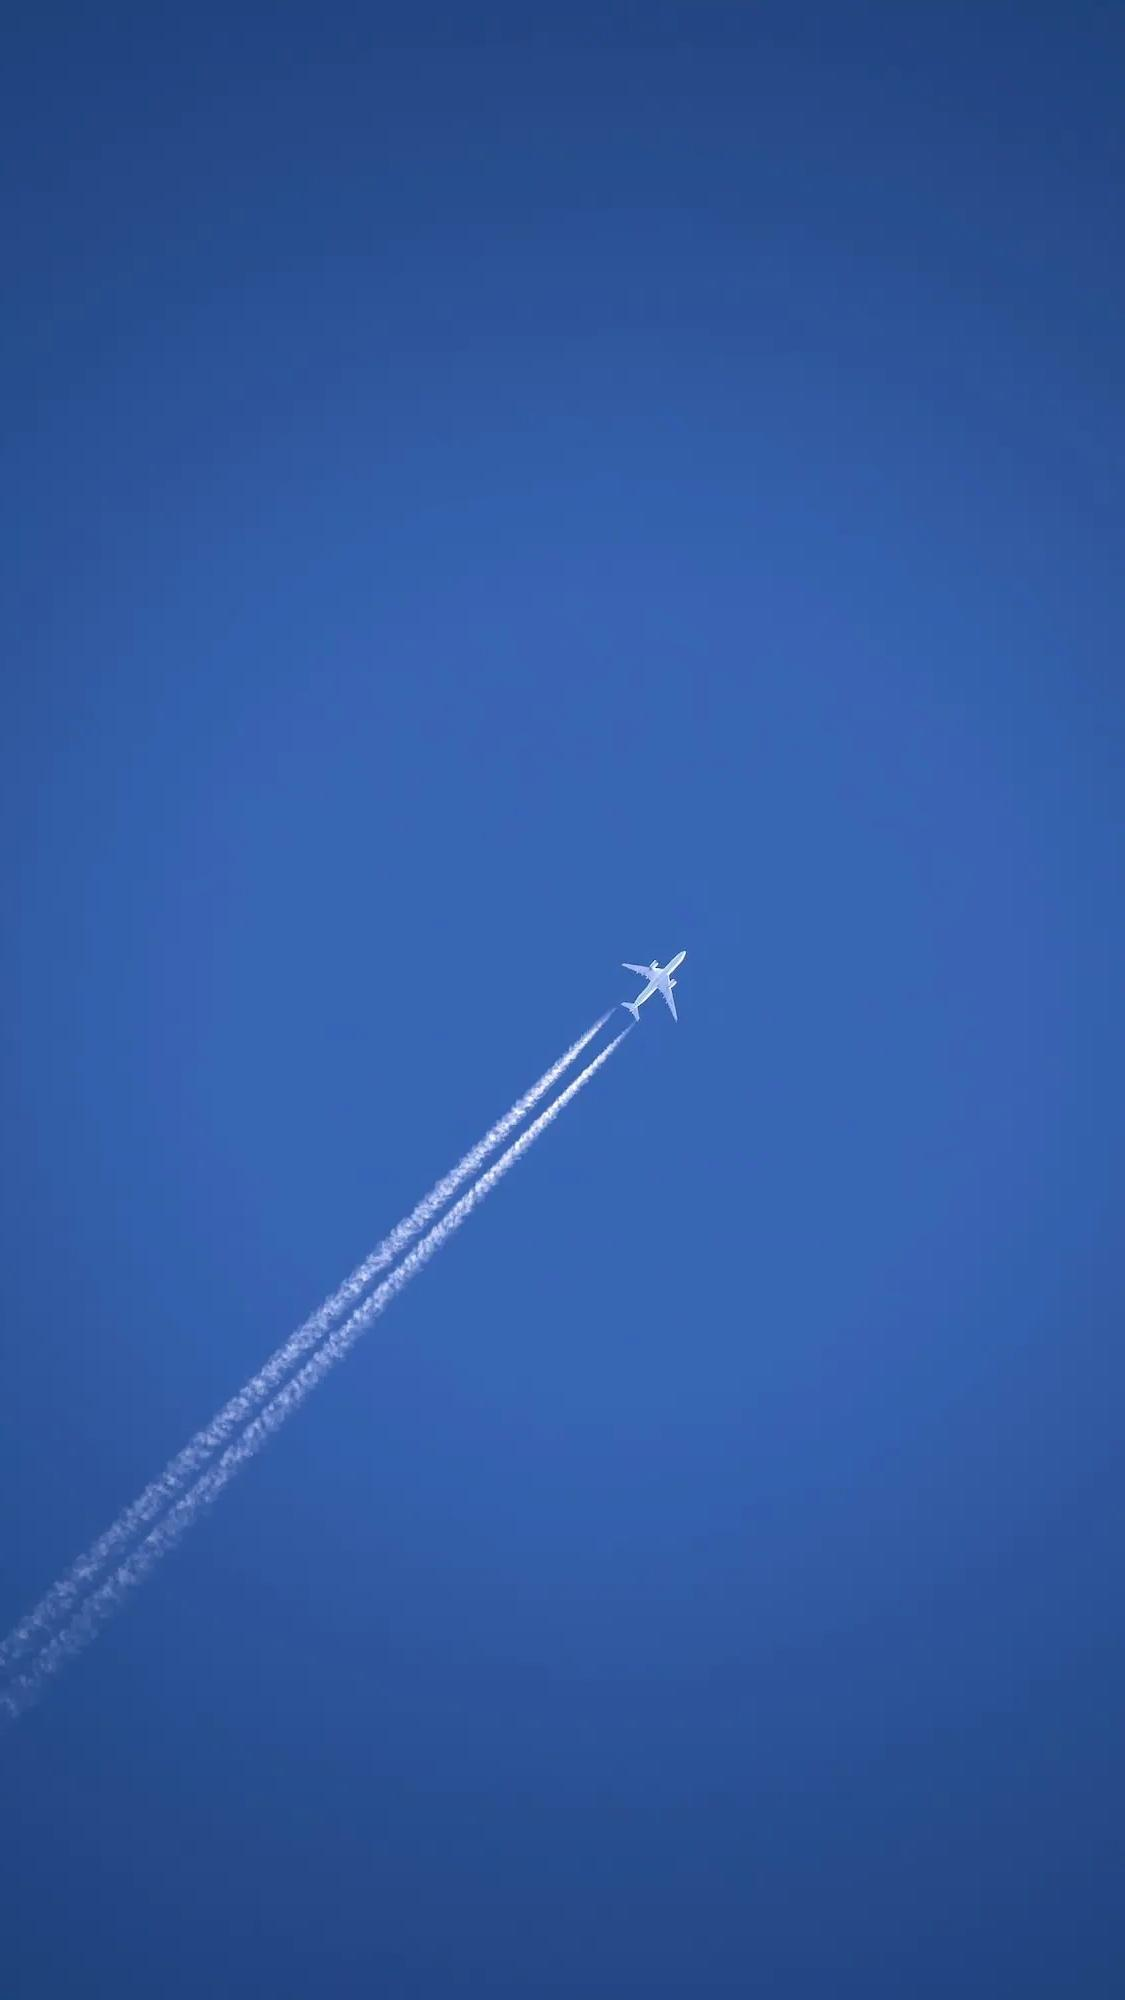Plane: (122, 920, 739, 1457)
